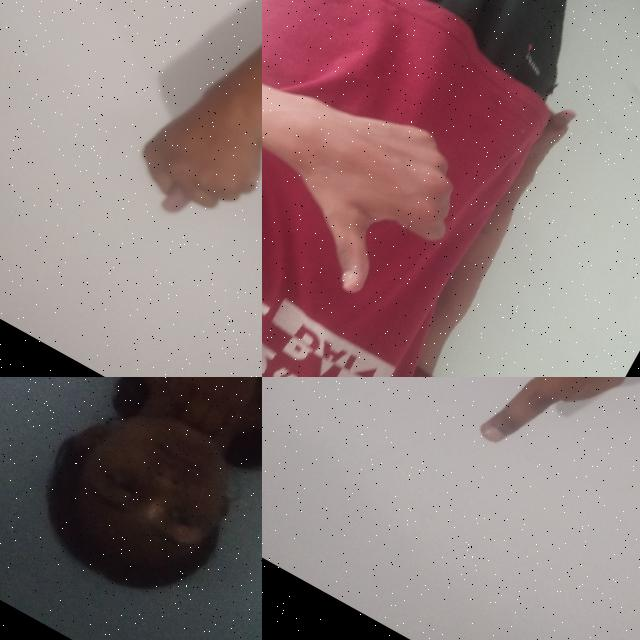Chin Flick: (9, 377, 262, 630)
Dulya: (116, 33, 262, 253)
Middle Finger: (422, 377, 640, 488)
Thumbs Up: (262, 79, 494, 326)
